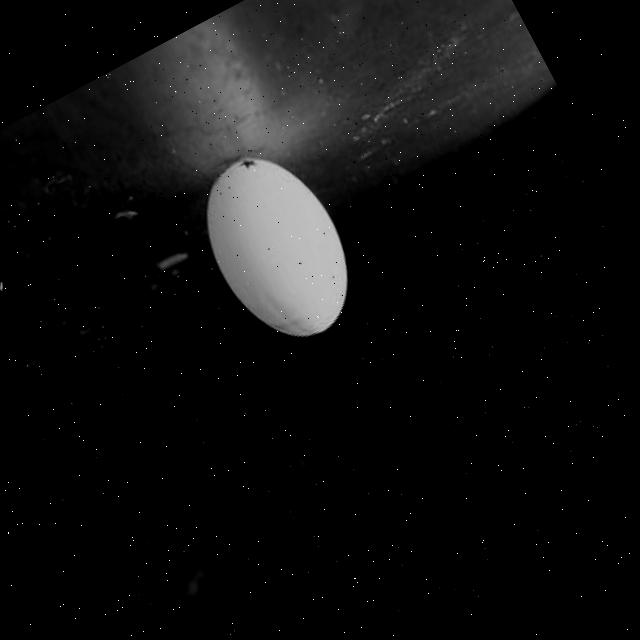ping-pong-ball: (173, 127, 379, 363)
